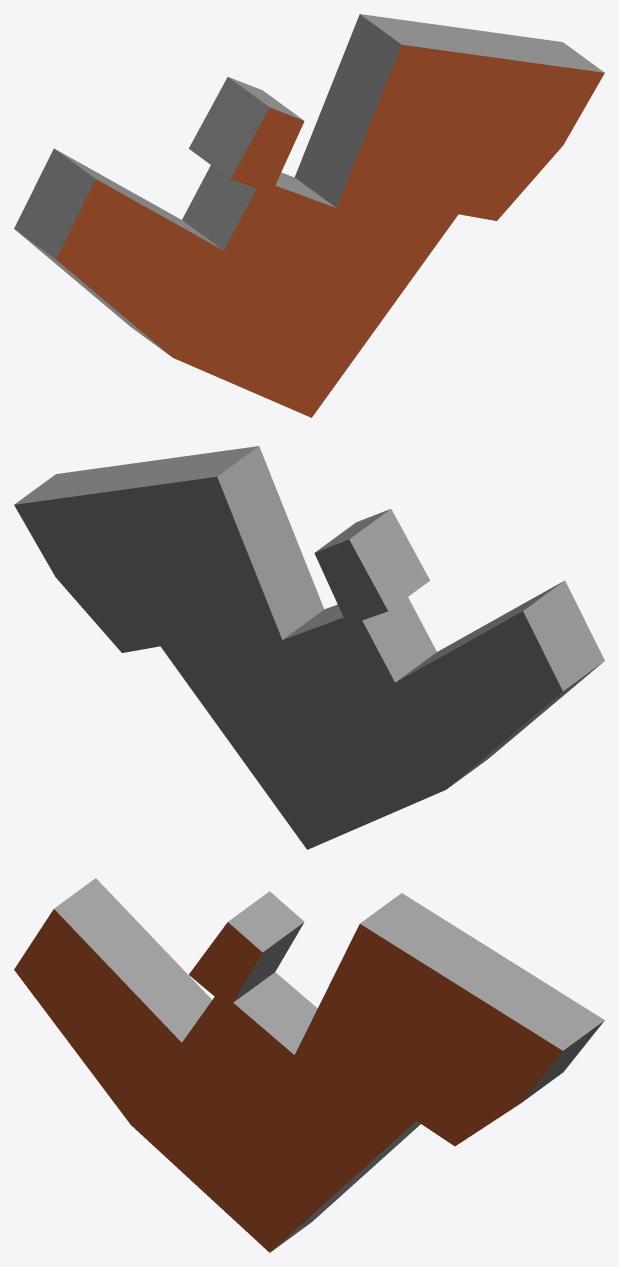
Rendered from construction_2274_assumed_A_Casa_h6m.obj.
3 renders of one model, top to bottom at view 1: azimuth 30°, elevation 25°; view 2: azimuth 150°, elevation 25°; view 3: azimuth 330°, elevation 25°, orthographic.
Parts seen in each view (by area): view 1: construction_2274_assumed_A_Casa; view 2: construction_2274_assumed_A_Casa; view 3: construction_2274_assumed_A_Casa.
Part boxes in pixels (left/top/right/bottom): construction_2274_assumed_A_Casa: left=14, top=14, right=604, bottom=417; construction_2274_assumed_A_Casa: left=14, top=446, right=604, bottom=849; construction_2274_assumed_A_Casa: left=14, top=878, right=604, bottom=1252.
Bounding box in the file's own units: 45.32 × 27.71 × 6.
